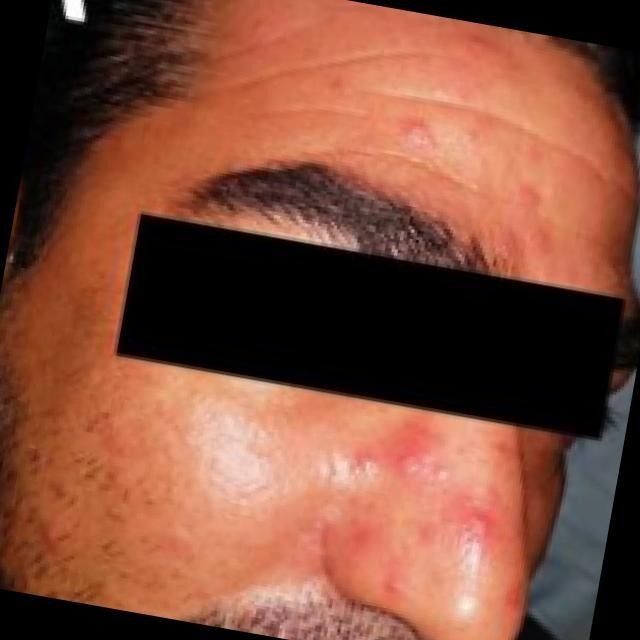Eczema: (337, 29, 578, 259), (337, 410, 533, 625)
